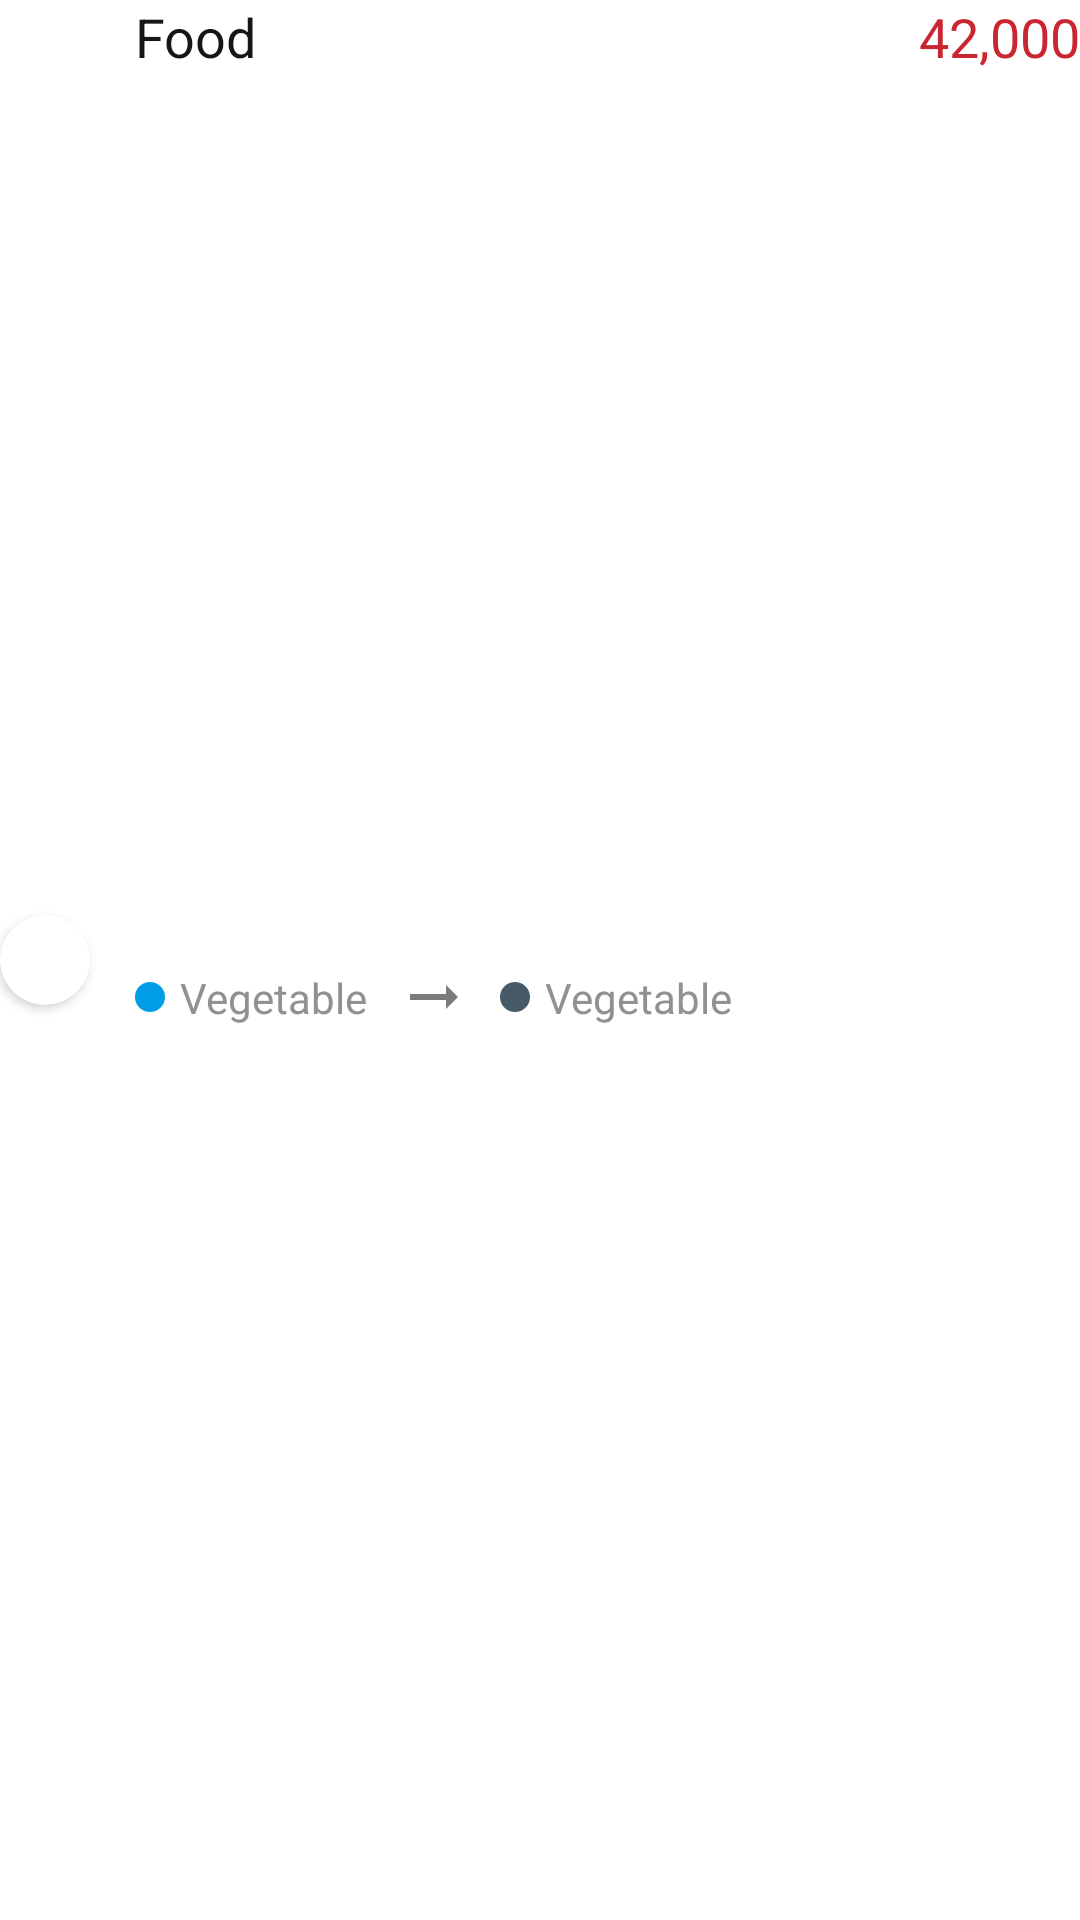

Locate icon controls on the screen. Image size 1080w x 1920h, boxes as Rect(x1, y1, x2, y2).
arrow right: Rect(410, 985, 458, 1009)
